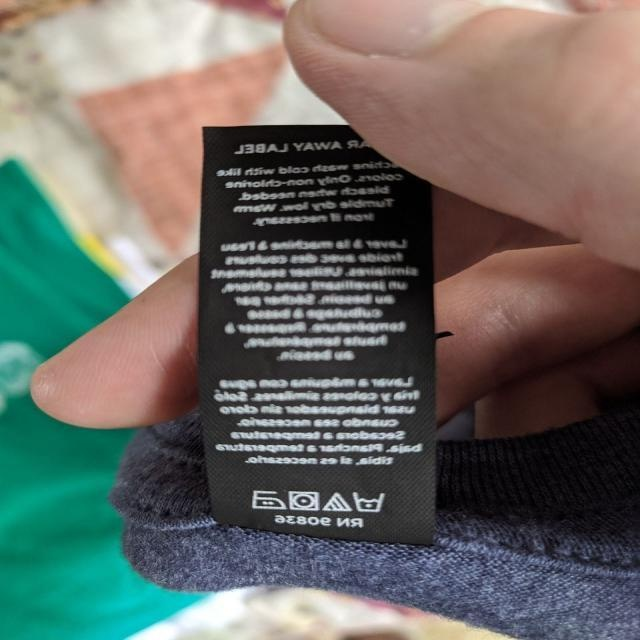30C: (353, 488, 384, 514)
iron_medium: (247, 489, 284, 514)
non_chlorine_bleach: (321, 492, 350, 514)
tumble_dry_low: (284, 490, 319, 515)
